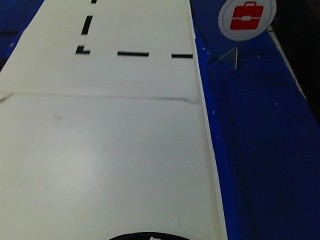company: (216, 0, 273, 42)
